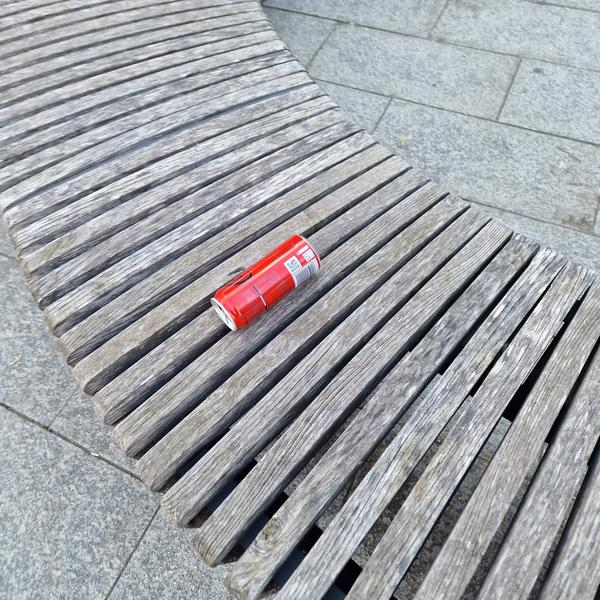can: (206, 230, 327, 336)
